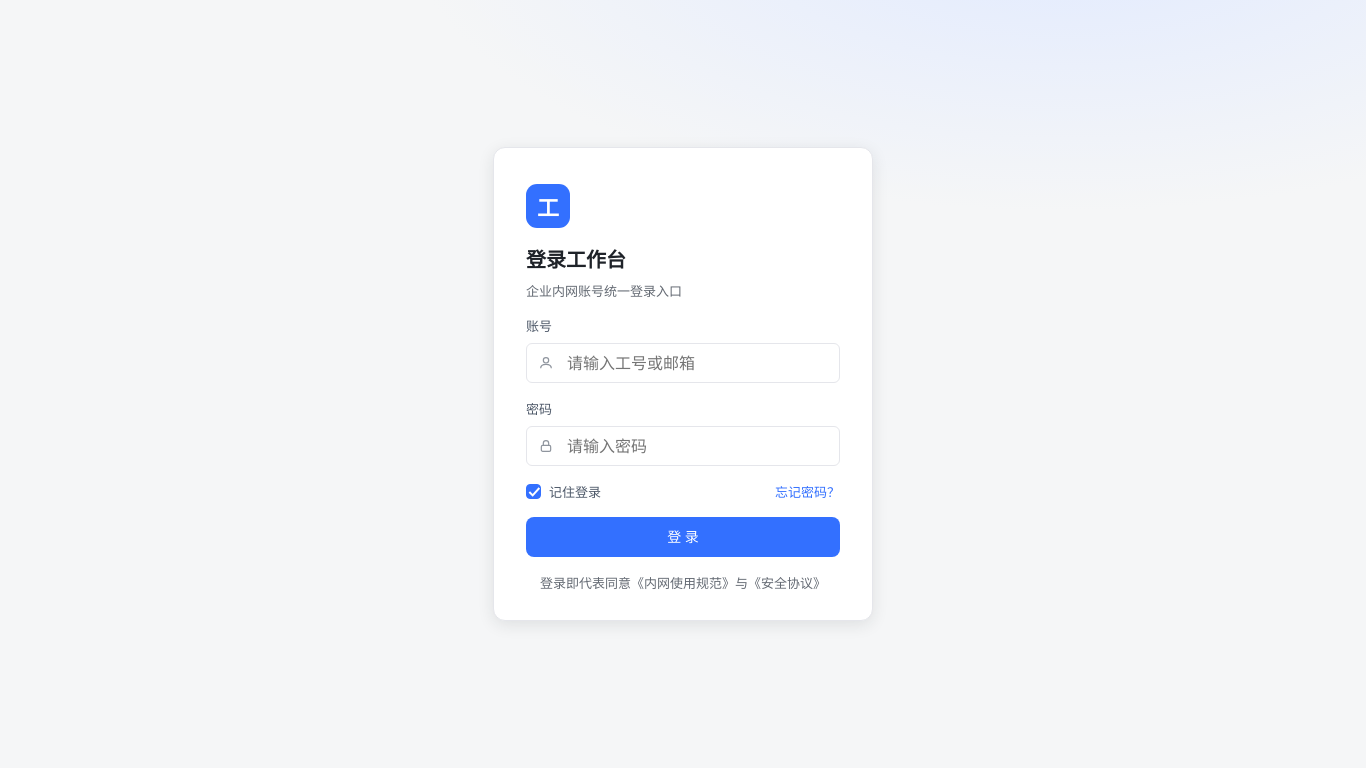
Test: workbench shell frontend foundation › gates first-login users into the forced wizard instead of rendering the shell
This screenshot has width=1366, height=768.
In the field labelled "账号": (683, 363) [526,343,840,383], type "admin"
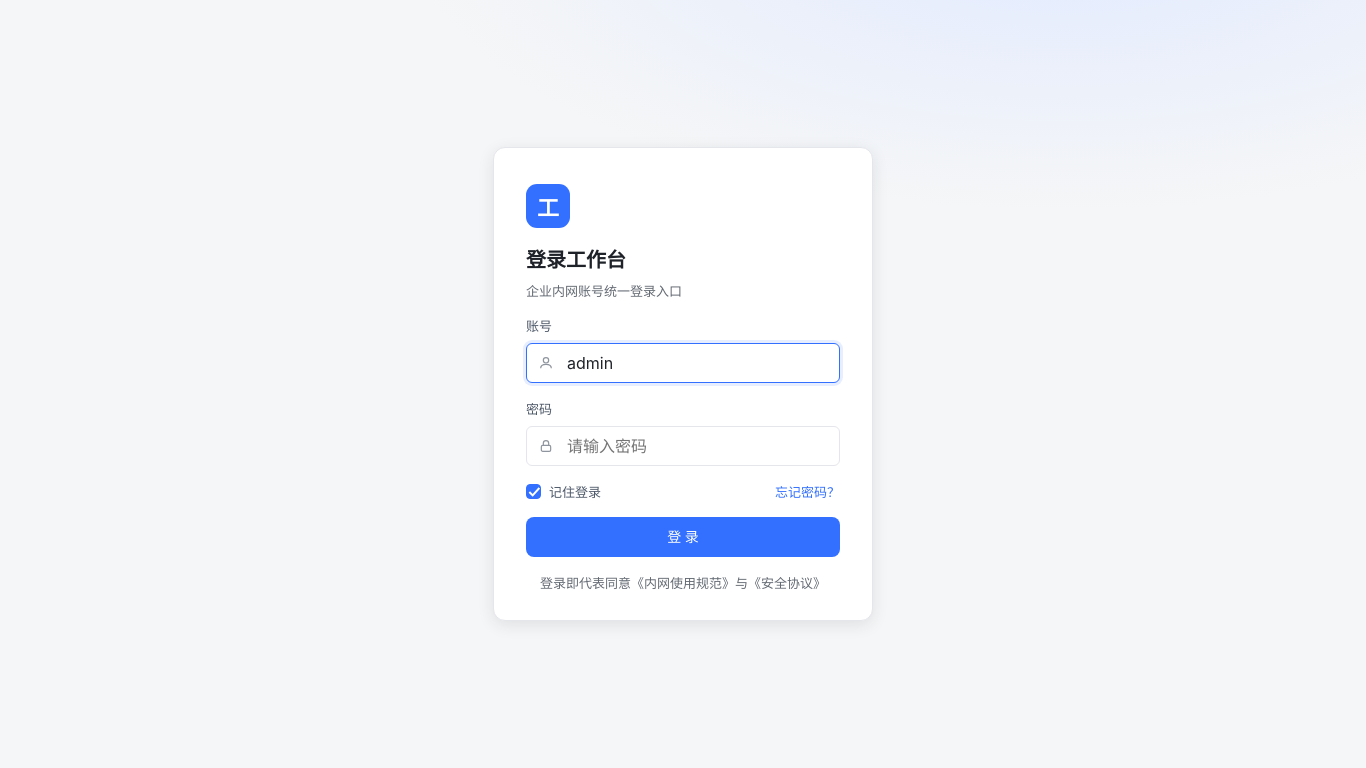
In the password field labelled "密码": (683, 446) [526,426,840,466], type "secret"
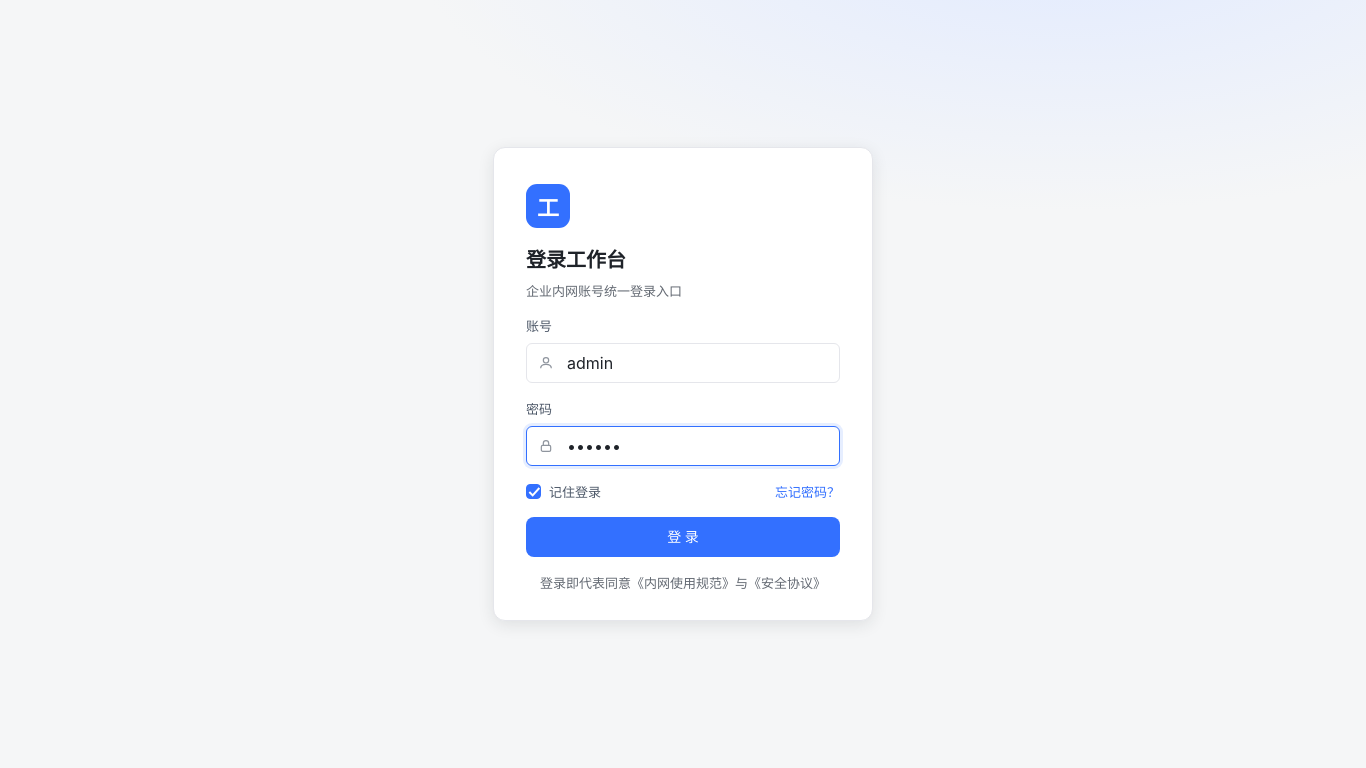
Click the button "登 录": (683, 537) [526,517,840,557]
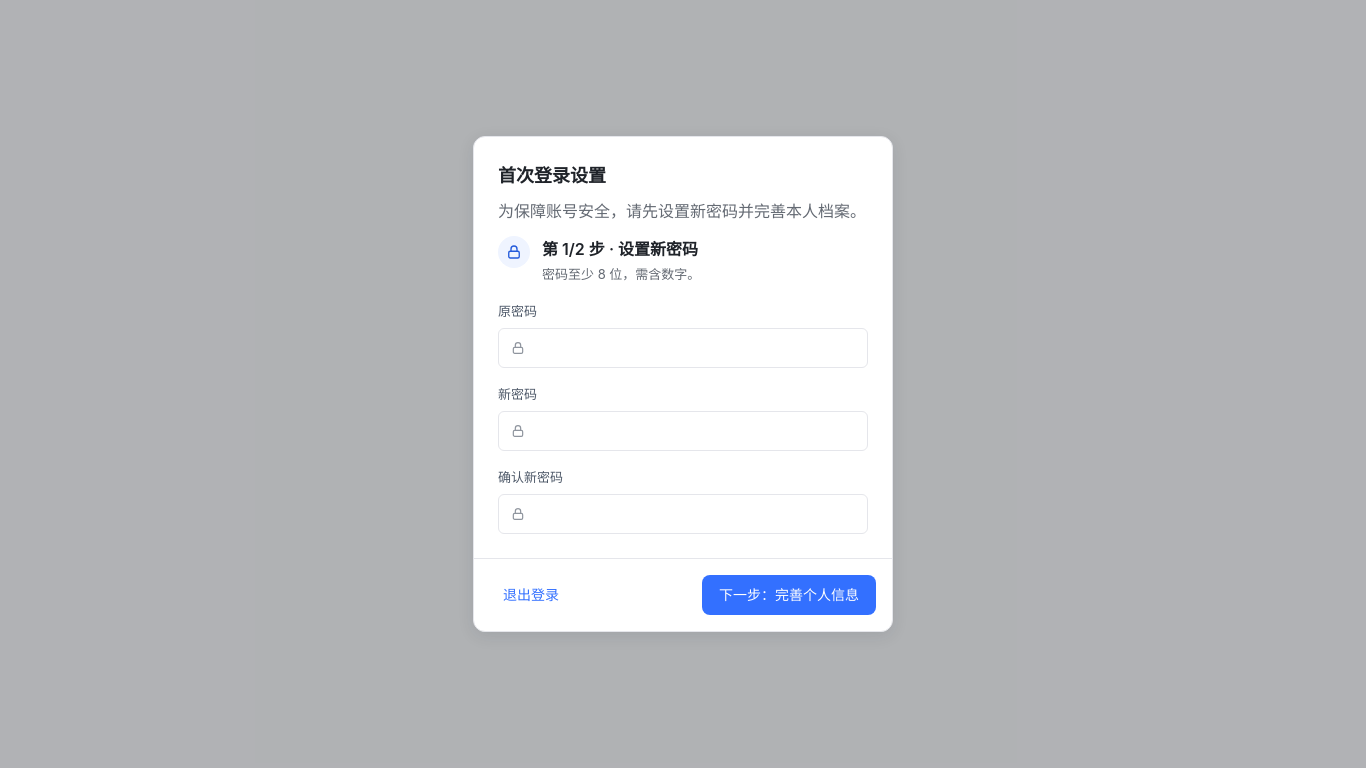
expect the heading "首次登录设置" is shown: met, box [498,165,606,186]
expect the heading "第 1/2 步 · 设置新密码" is shown: met, box [542,239,698,259]
